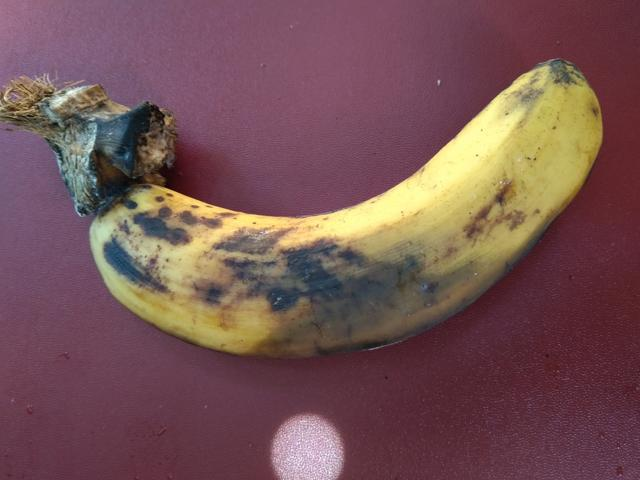overripe: (82, 59, 601, 383)
rotten: (217, 207, 483, 406)
